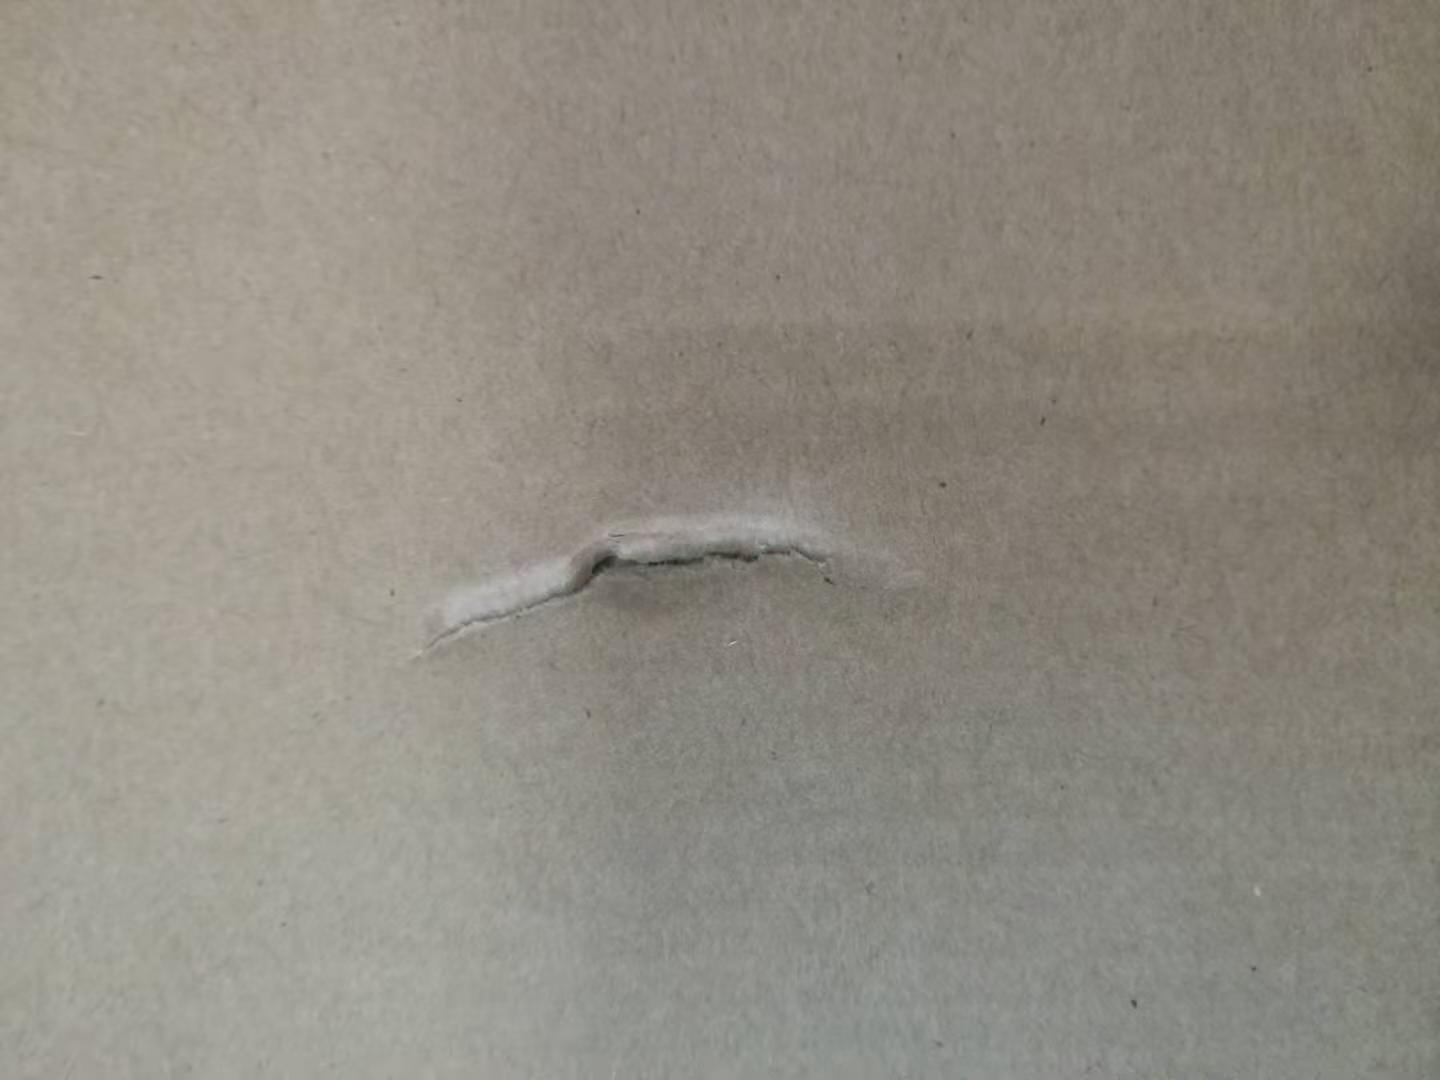defect: (389, 492, 977, 680)
